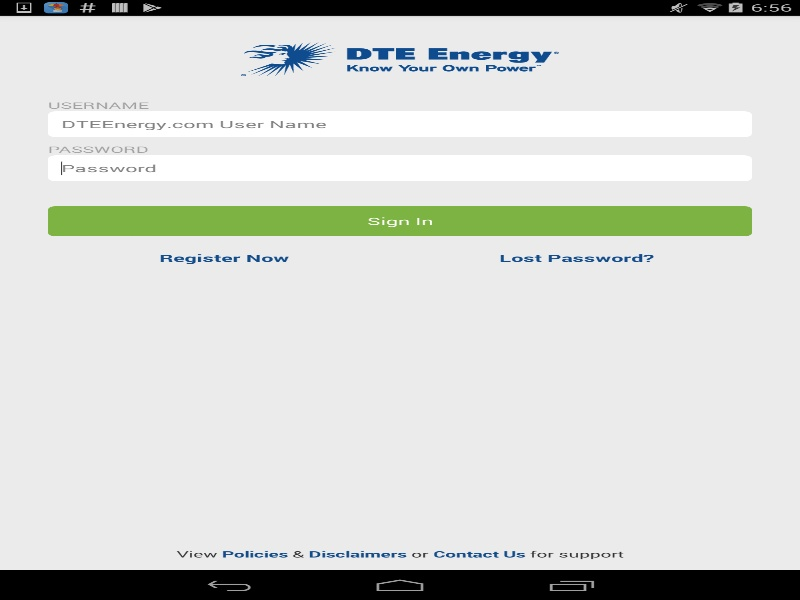Button: (48, 206, 752, 236)
Input: (48, 111, 752, 137), (48, 155, 752, 181)
